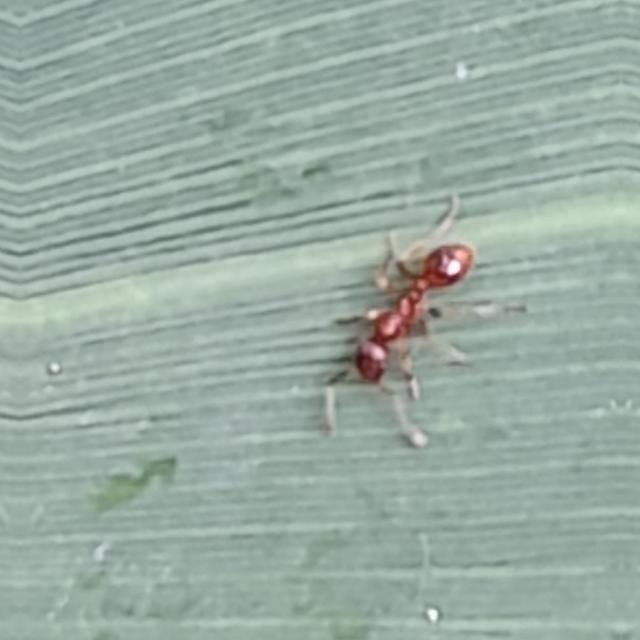Myrmica: (317, 198, 499, 418)
